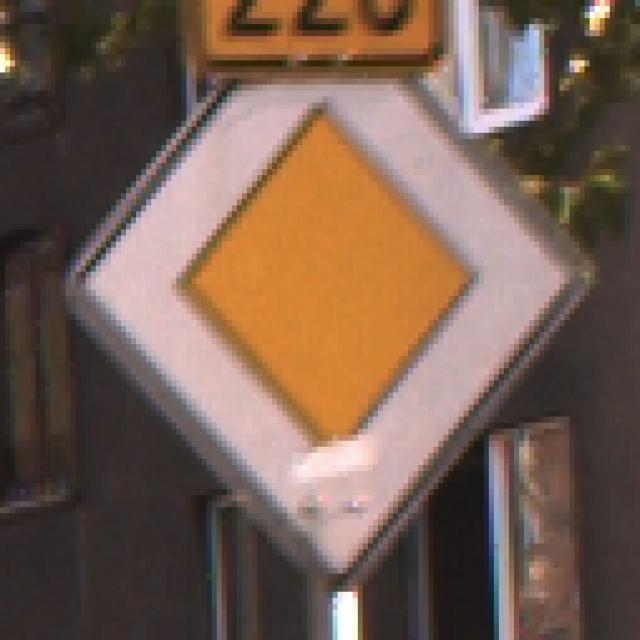Main Road: (57, 55, 586, 587)
